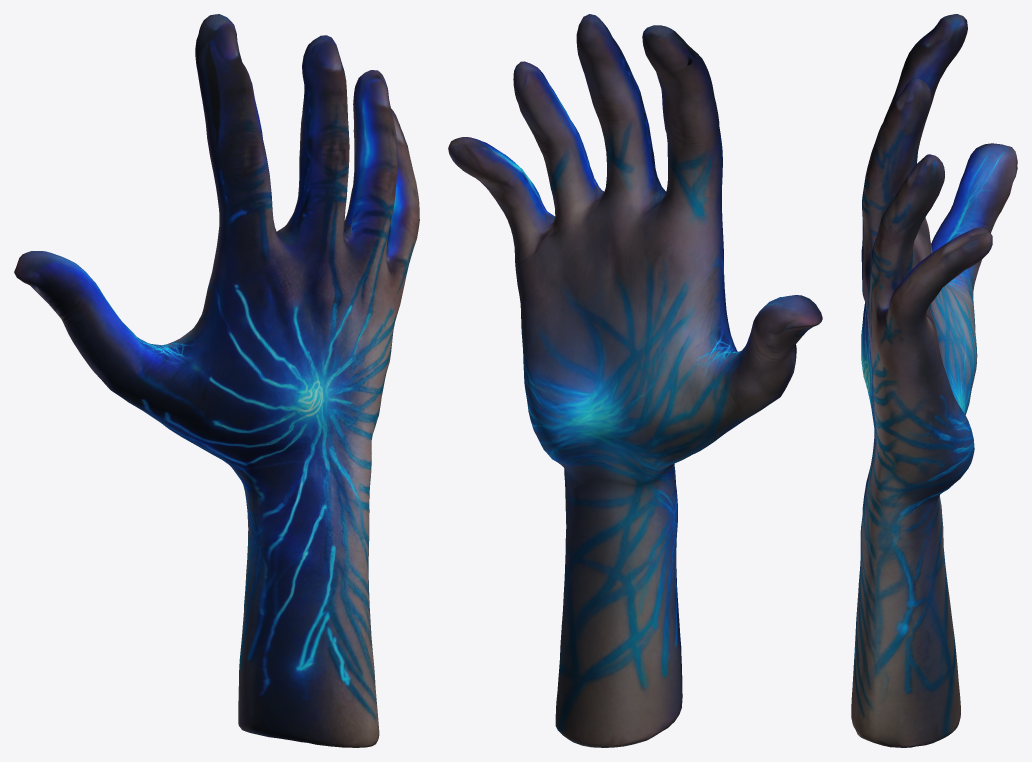
The model's file is mano mago.glb.
3 views of the same model, side by side, from view 1: azimuth 30°, elevation 25°; view 2: azimuth 150°, elevation 25°; view 3: azimuth 270°, elevation 25° (orthographic). The views are drawn at different scales.
Bounding box in the file's own units: 1.07 × 2 × 0.444.
1 material, 1 textured.
